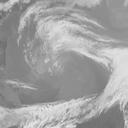cyclone: (16, 3, 80, 68)
